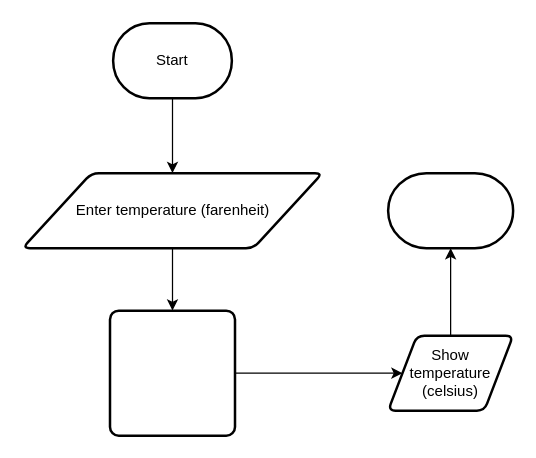
This 536x458 diagram has some shape labels left out. The shapes that lost their labels are listed below. From the top down, each one's centre as x and y in pixels, then its label:
At pixel 450 210: "Stop".
At pixel 172 372: "(temperature - 32) x 5/9".
